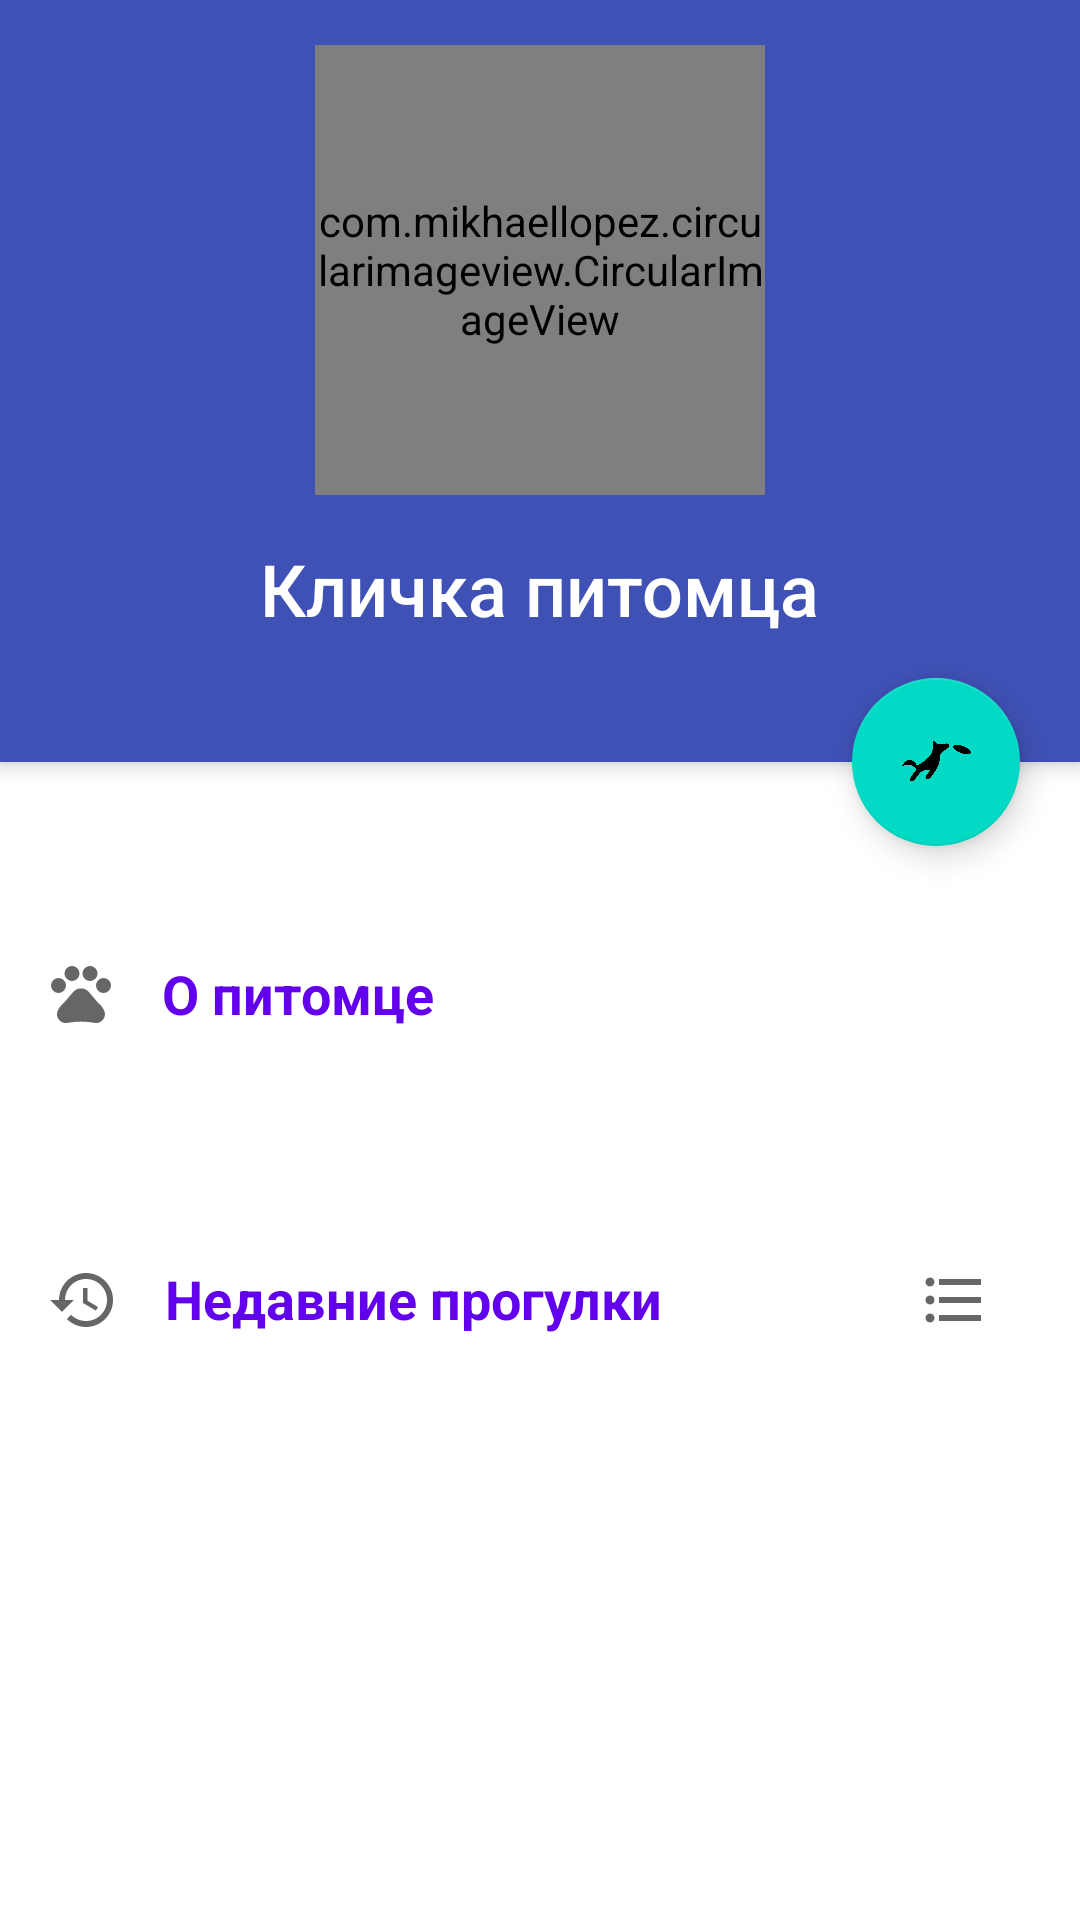

Named icons in this screenshot (1080*1920) and their centers, (x,y):
dog walk: (936,762)
doginfo about: (81,994)
history: (81,1300)
list: (953,1300)
